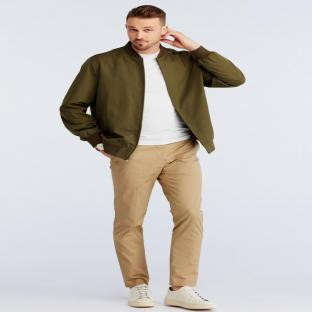Human: (60, 5, 245, 308)
